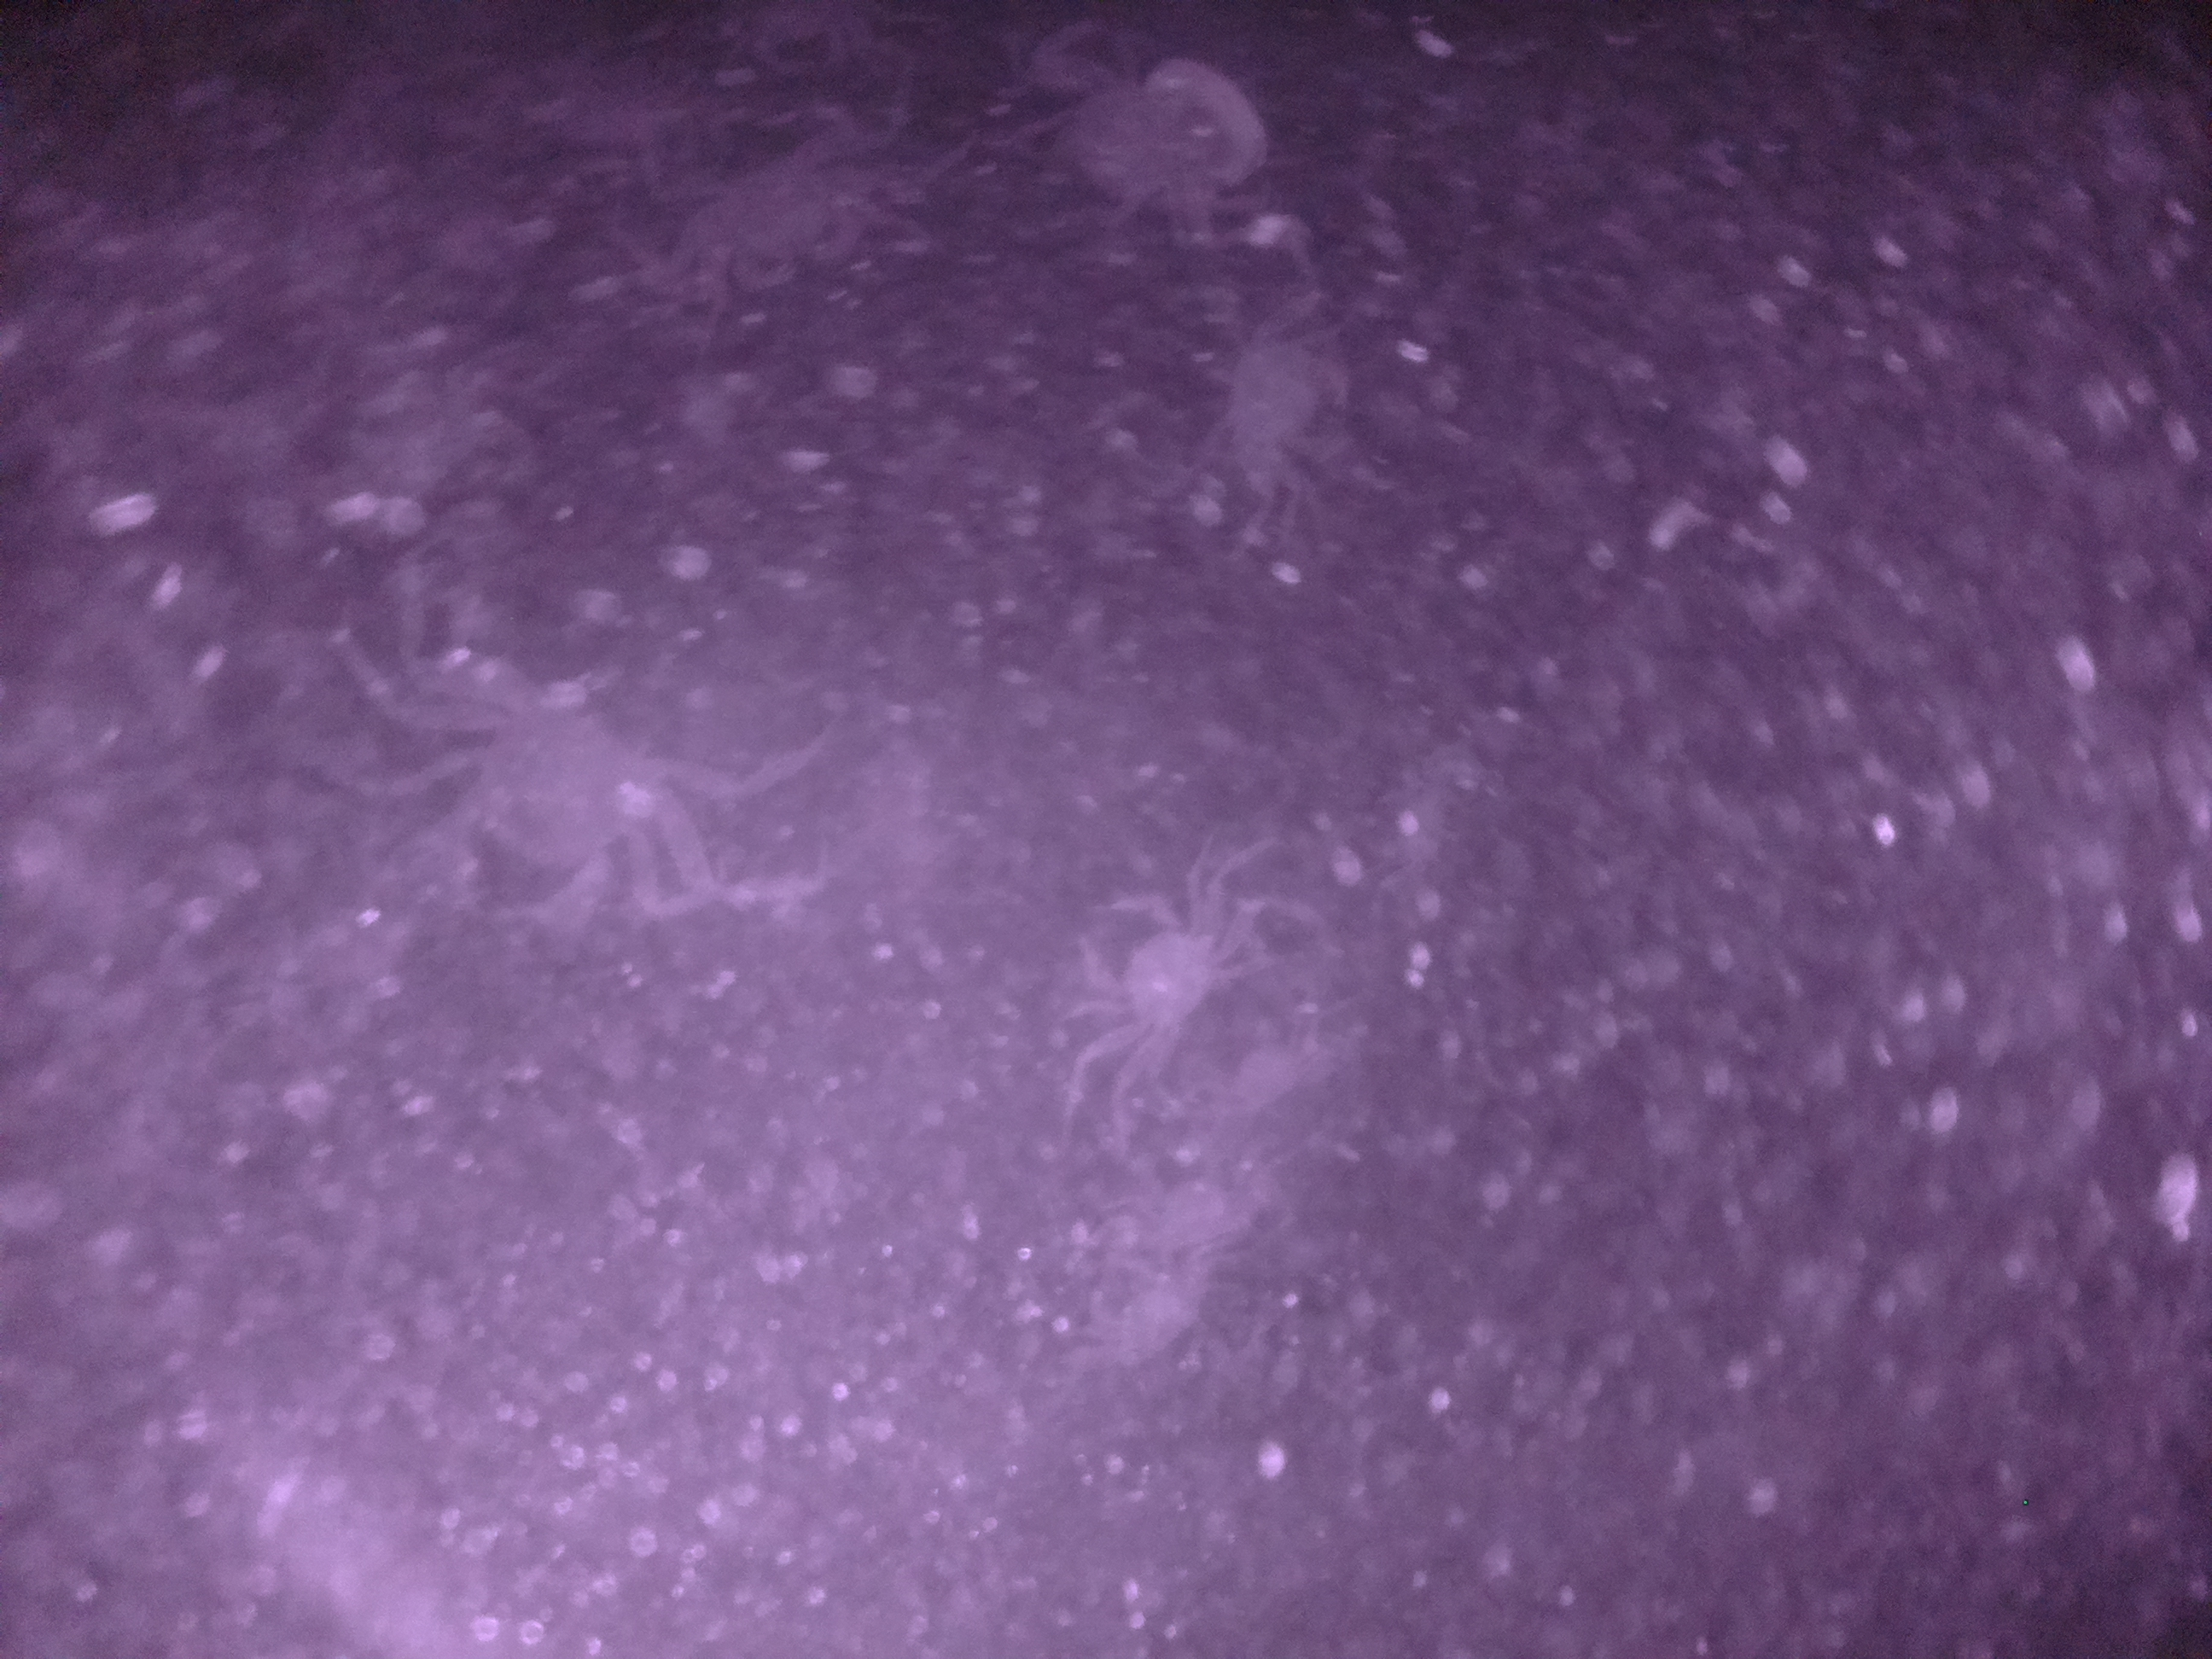Crab: (667, 125, 918, 298), (1061, 859, 1252, 1082), (1205, 312, 1369, 497)
